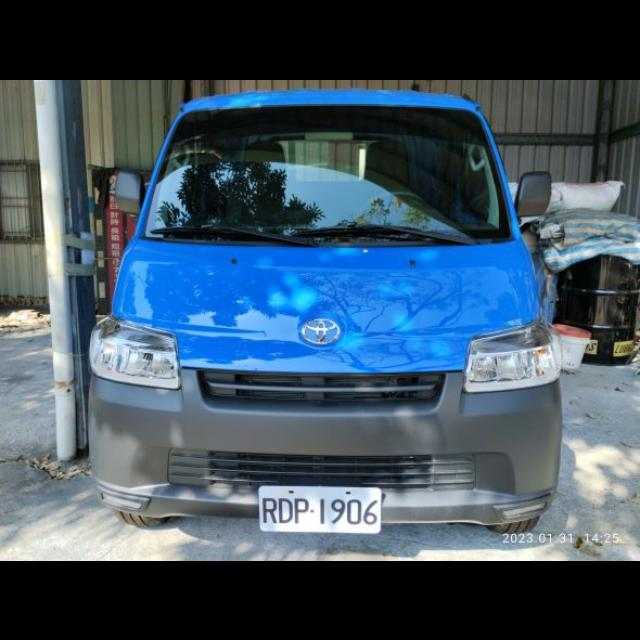plate: (259, 485, 382, 532)
